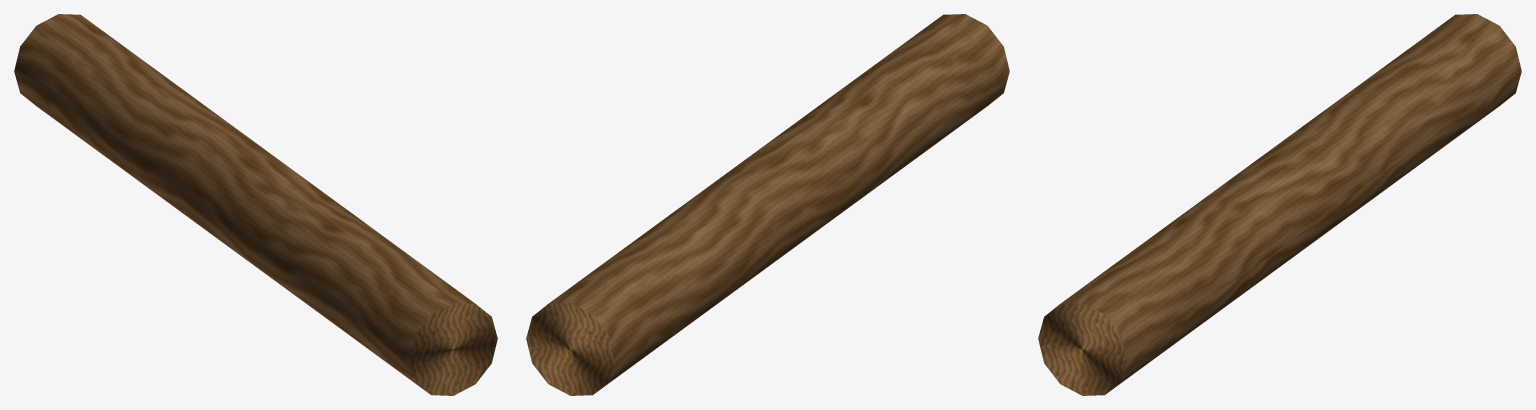
The model's file is wick.obj.
3 renders of one model, left to right at view 1: azimuth 30°, elevation 25°; view 2: azimuth 150°, elevation 25°; view 3: azimuth 330°, elevation 25°, orthographic.
Parts seen in each view (by area): view 1: Slow_match; view 2: Slow_match; view 3: Slow_match.
Boxes of the visible parts, left/top/right/bottom form: Slow_match: left=14, top=14, right=497, bottom=395; Slow_match: left=526, top=14, right=1009, bottom=395; Slow_match: left=1038, top=14, right=1521, bottom=395.
Size of the model in its own units: 0.0163 by 0.0163 by 0.125.
